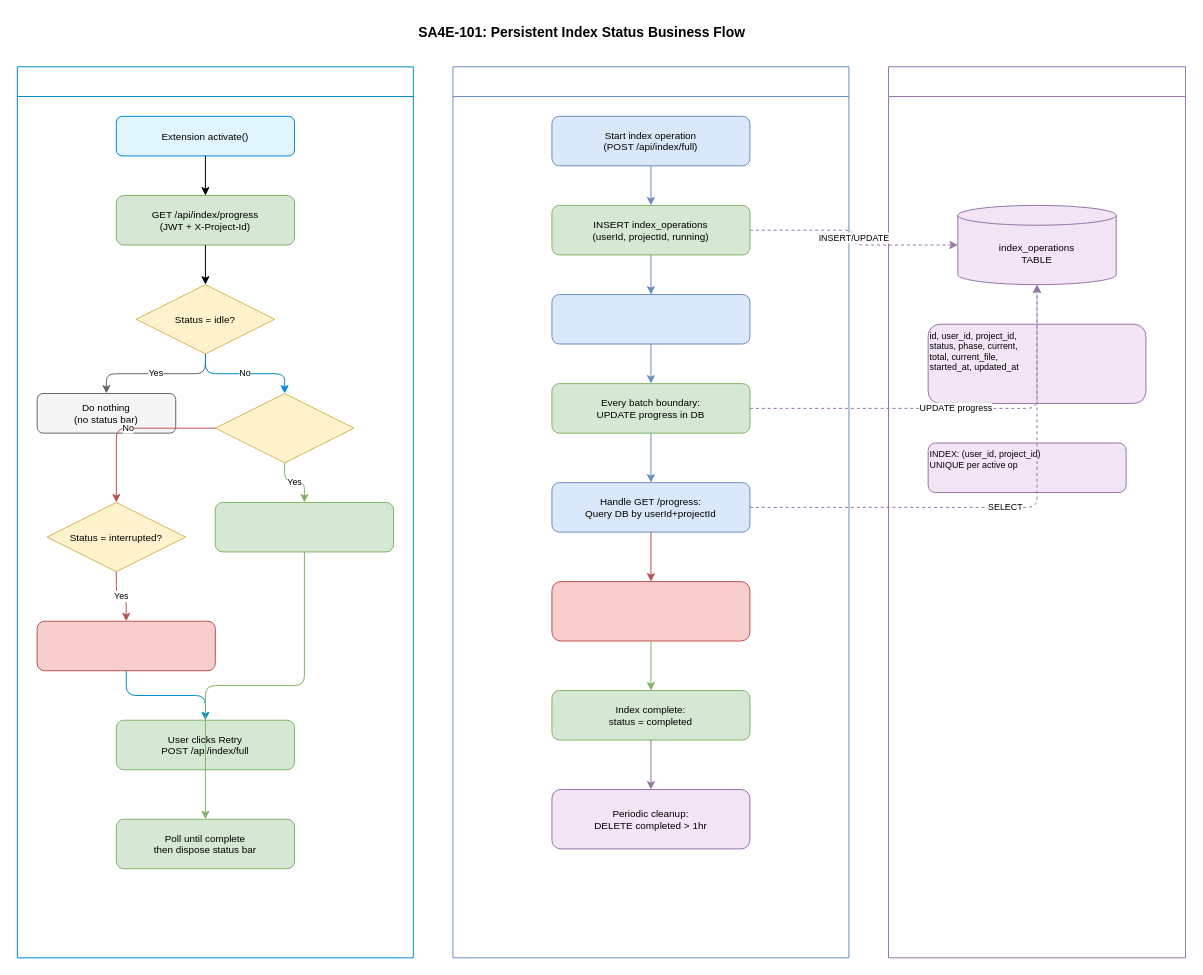
Image size: 1203x975. Some labels were removed from this diagram. The shapes that lost their labels are listed below. From the top down, each one's box as (x1, y1, x2, y2) in pixels, then its label:
(551, 294, 750, 344): Index engine runs (batch processing)
(214, 393, 354, 463): Status = running?
(16, 66, 413, 958): VS Code Extension
(214, 501, 394, 552): Show progress status bar Start polling (2s)
(452, 66, 849, 958): Backend (Hono + IndexOperationManager)
(888, 66, 1186, 958): PostgreSQL
(551, 581, 750, 641): On startup: detect stale running → mark interrupted
(36, 620, 215, 671): Show: Index interrupted at X%. Click to retry
